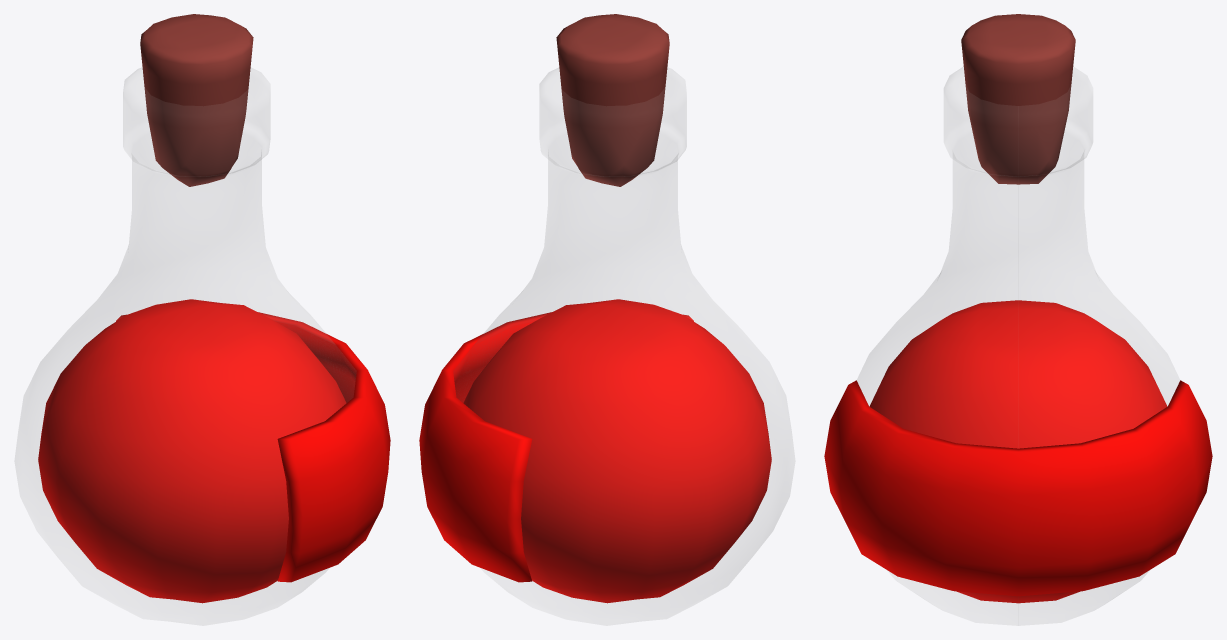
File: PickupPotionHealth.dae
The picture shows the model from 3 angles, left to right: view 1: azimuth 30°, elevation 25°; view 2: azimuth 150°, elevation 25°; view 3: azimuth 270°, elevation 25°; orthographic projection.
Parts seen in each view (by area): view 1: PotionHealth; view 2: PotionHealth; view 3: PotionHealth.
Boxes of the visible parts, box(x1,y1,x2,y2) form: PotionHealth: box(15, 14, 390, 625); PotionHealth: box(419, 14, 794, 625); PotionHealth: box(824, 14, 1212, 625).
Bounding box in the file's own units: 0.2712 × 0.2768 × 0.4415.
